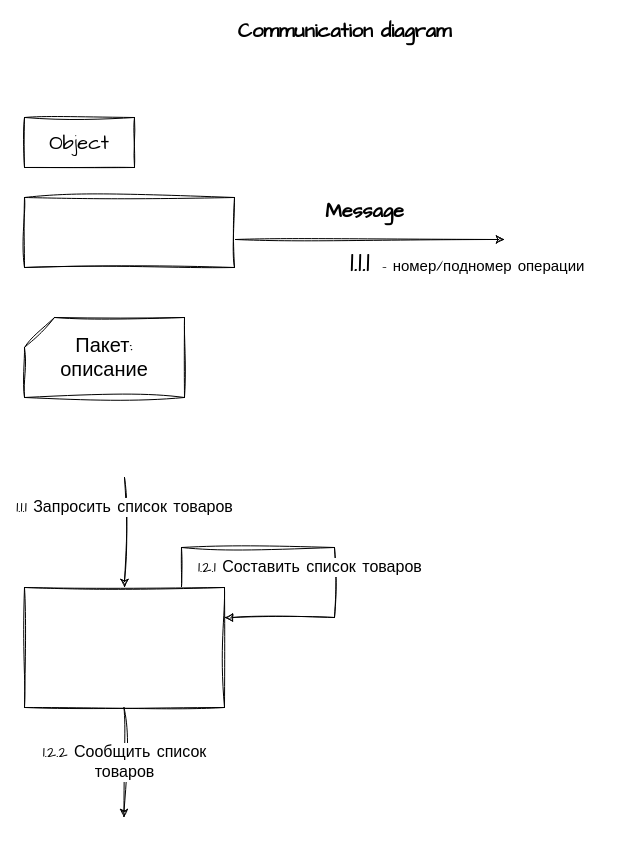
The diagram is 622 pixels wide and 843 high, and some of its shapes have lost their labels. The centre of each missing label's shape, as x and y in pixels:
::Storage: the point at 124,647
Класс:Роль:Имя: the point at 129,232
